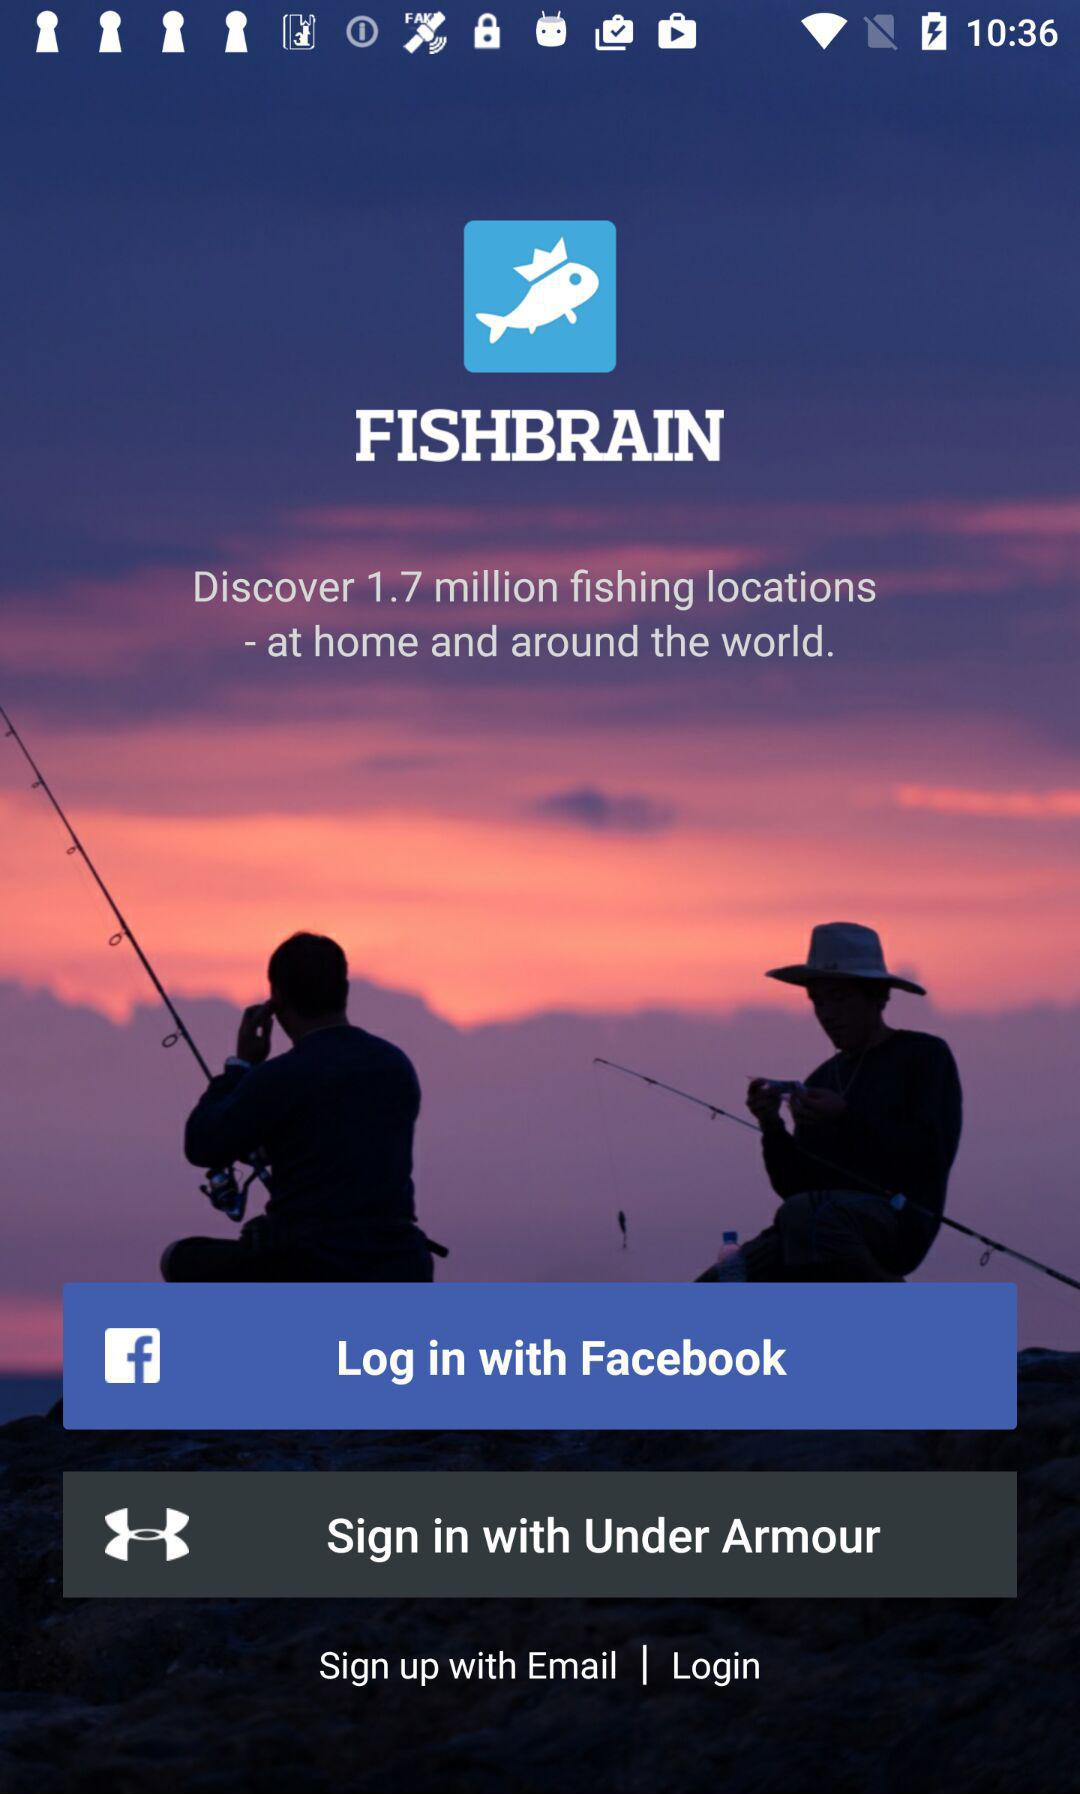BackgroundImage: (1, 56, 1079, 1794)
Image: (462, 220, 618, 374)
Text: (195, 570, 878, 659), (355, 409, 725, 464), (320, 1650, 618, 1686), (673, 1650, 760, 1686)
TextButton: (64, 1281, 1017, 1430), (63, 1471, 1017, 1598)
UpperTaskBar: (1, 1, 1080, 56)
